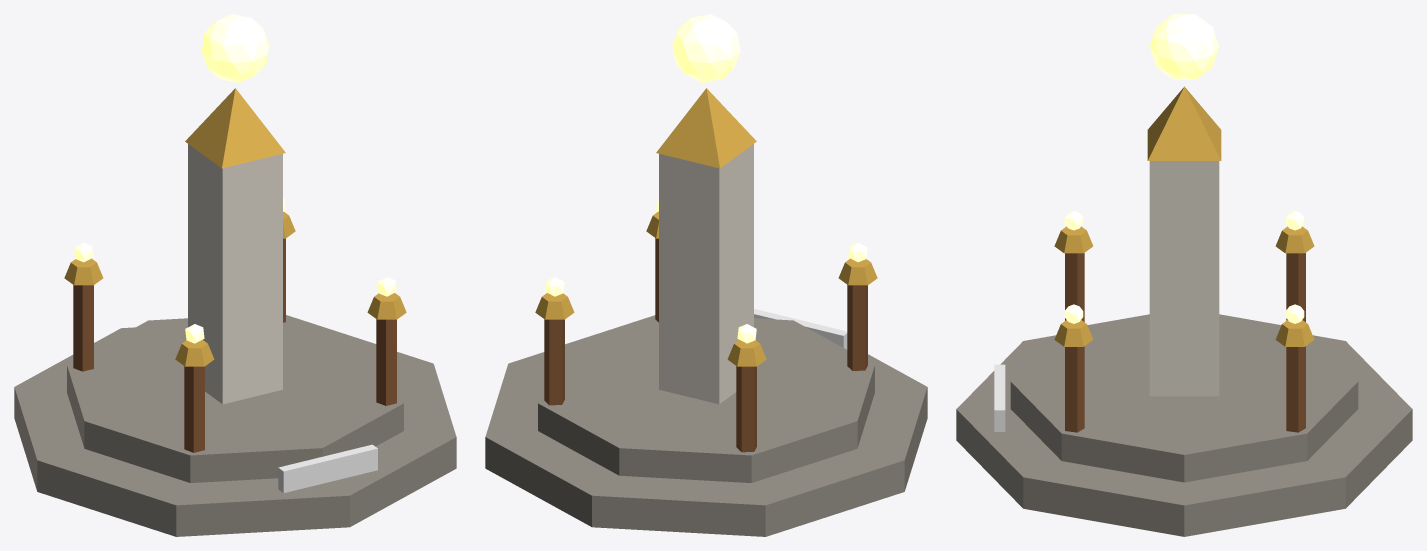
Rendered from shrine.glb.
3 views of the same model, side by side, from view 1: azimuth 30°, elevation 25°; view 2: azimuth 150°, elevation 25°; view 3: azimuth 270°, elevation 25° (orthographic).
Visible parts, largest first — view 1: shrine; view 2: shrine; view 3: shrine.
Boxes of the visible parts, <box> form: shrine: <box>14,14,456,536</box>; shrine: <box>485,14,927,536</box>; shrine: <box>956,14,1412,536</box>.
Bounding box in the file's own units: 2.1 × 2.19 × 2.1.
